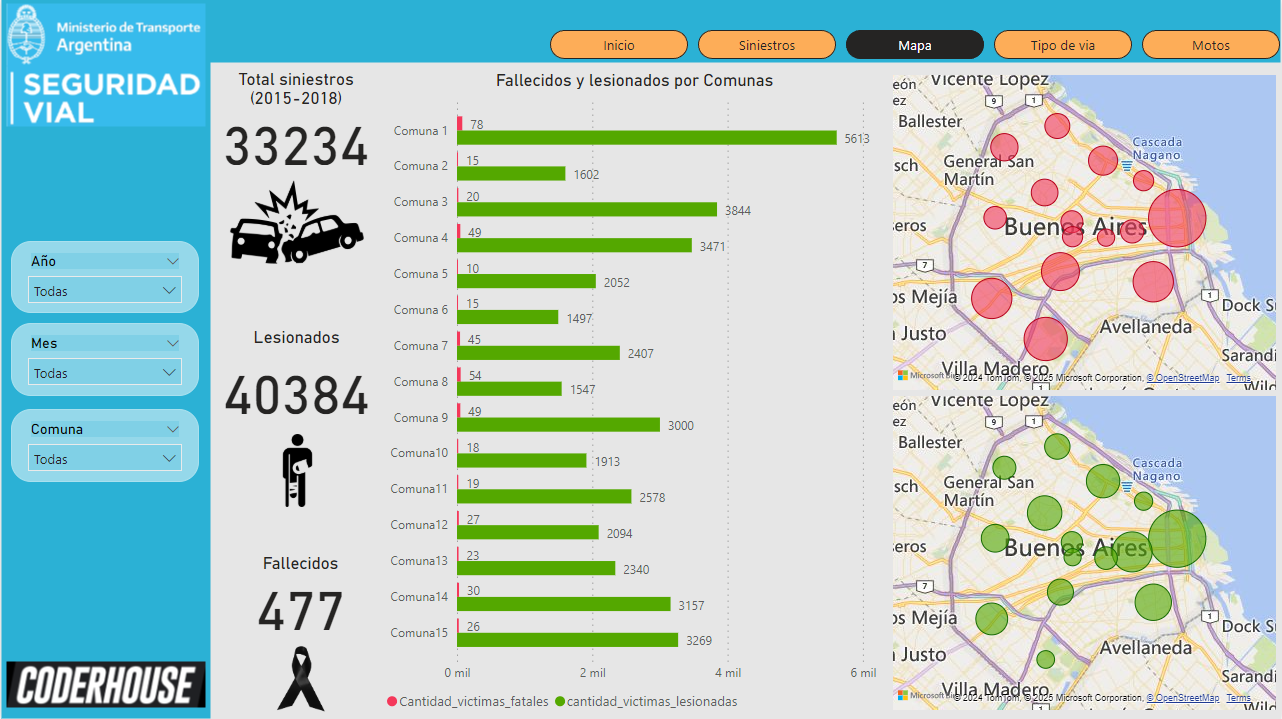

The dashboard page shown, as its layout file describes it:
{"tool":"powerbi","page":{"name":"Mapa","canvas":[1280,720],"ordinal":2},"visuals":[{"type":"pageNavigator","box":[548.9,30,731.1,28.9],"z":0},{"type":"clusteredBarChart","title":"Fallecidos y lesionados por Comunas","fields":{"Category":["Comuna.Comuna"],"Y":["Sum(TipoSiniestro.Cantidad_victimas_fatales)","Sum(TipoSiniestro.cantidad_victimas_lesionadas)"]},"box":[380,70,507.3,650],"z":1000},{"type":"map","fields":{"Size":["Sum(TipoSiniestro.Cantidad_victimas_fatales)"],"Category":["Comuna.Localidad"]},"box":[887.3,70,392.7,325.5],"z":2000},{"type":"map","fields":{"Category":["Comuna.Localidad"],"Size":["Sum(TipoSiniestro.cantidad_victimas_lesionadas)"]},"box":[887.3,390.9,392.7,324.5],"z":3000},{"type":"group","id":"g1","title":"Grupo 3","box":[210,69,170,206],"z":4000},{"type":"card","title":"Total siniestros (2015-2018)","fields":{"Values":["Medidas.Total Siniestros"]},"box":[210.3,69,169.8,101],"z":4000,"group":"g1"},{"type":"group","id":"g2","title":"Grupo 1","box":[211,327,169,185],"z":5000},{"type":"card","title":"Fallecidos","fields":{"Values":["Medidas.Cantidad victimas fatales"]},"box":[219,553,161,82],"z":5000,"group":"g3"},{"type":"card","title":"Lesionados","fields":{"Values":["Medidas.Cantidad victimas lesionadas"]},"box":[211,327,169,102],"z":6000,"group":"g2"},{"type":"group","id":"g3","title":"Grupo 2","box":[219,553,161,167],"z":6000},{"type":"slicer","fields":{"Values":["MomentoSiniestro.fecha.Variación.Jerarquía de fechas.Año"]},"box":[10,241,188,72],"z":7000},{"type":"slicer","fields":{"Values":["MomentoSiniestro.fecha.Variación.Jerarquía de fechas.Mes"]},"box":[10,323.3,187.9,72.3],"z":8000},{"type":"slicer","fields":{"Values":["Comuna.Comuna"]},"box":[10,409,188,73],"z":9000},{"type":"image","box":[212,429,168,83],"z":9002,"group":"g2"},{"type":"image","box":[219,635,161,85],"z":9004,"group":"g3"},{"type":"image","box":[210,165.5,170,110],"z":12000,"group":"g1"}]}

Visuals, with their boxes in screenshot pixels (x1, y1, x2, y2), scaled from the page's 1280x720 canvas onto the 1282x719 screenshot:
pageNavigator: 550:30:1281:59
"Fallecidos y lesionados por Comunas" clusteredBarChart: 381:70:889:718
map - Sum(TipoSiniestro.Cantidad_victimas_fatales) x Comuna.Localidad: 889:70:1281:395
map - Comuna.Localidad x Sum(TipoSiniestro.cantidad_victimas_lesionadas): 889:390:1281:714
"Grupo 3" group: 210:69:381:275
"Total siniestros (2015-2018)" card: 211:69:381:170
"Grupo 1" group: 211:327:381:511
"Fallecidos" card: 219:552:381:634
"Lesionados" card: 211:327:381:428
"Grupo 2" group: 219:552:381:718
slicer - MomentoSiniestro.fecha.Variación.Jerarquía de fechas.Año: 10:241:198:313
slicer - MomentoSiniestro.fecha.Variación.Jerarquía de fechas.Mes: 10:323:198:395
slicer - Comuna.Comuna: 10:408:198:481
image: 212:428:381:511
image: 219:634:381:718
image: 210:165:381:275
